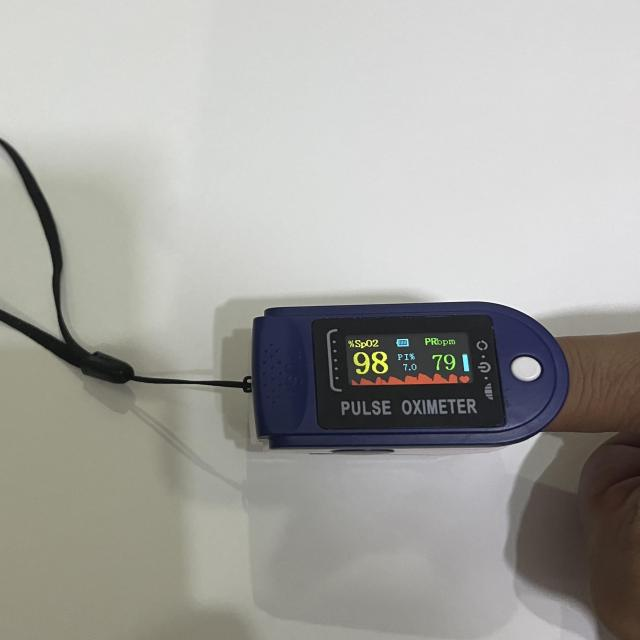spo2: (256, 304, 567, 448)
